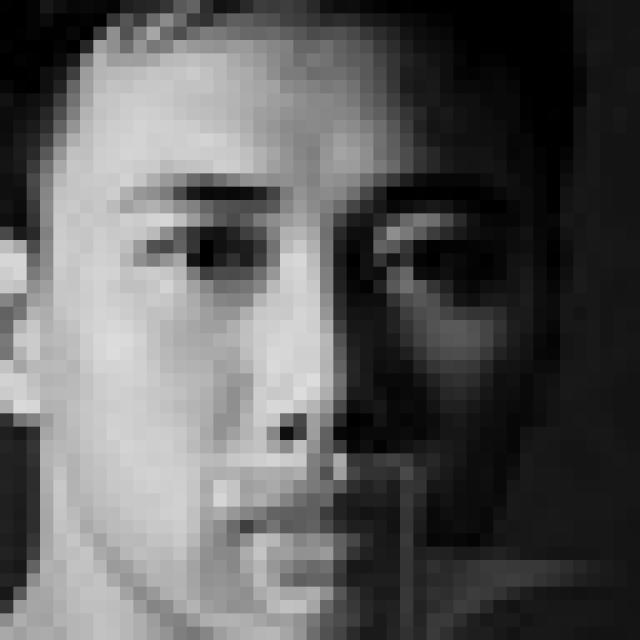neutral: (112, 161, 503, 586)
